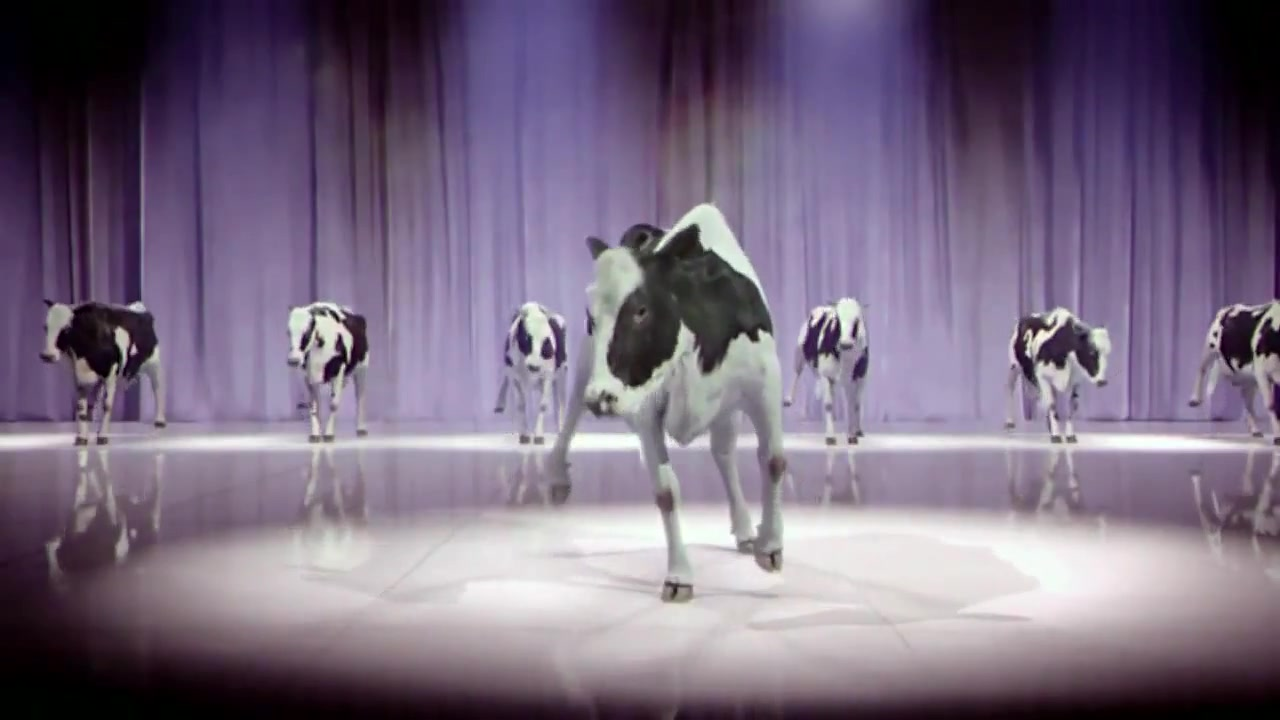cow: (583, 205, 796, 607)
